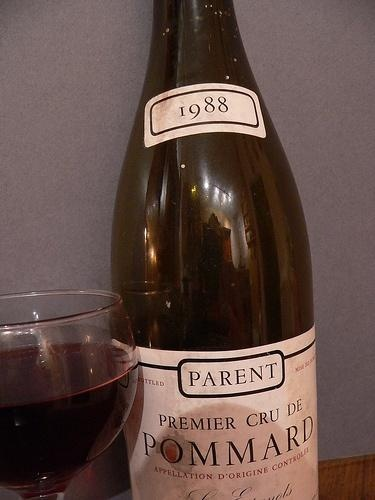bottle: (111, 1, 320, 500)
